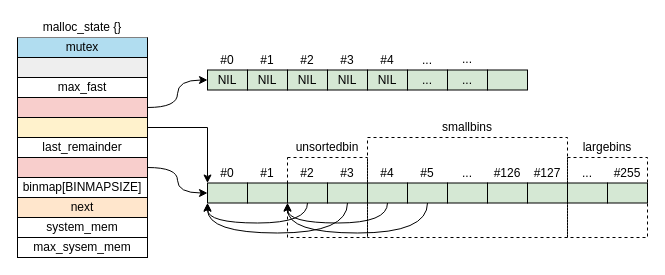
Image size: 665x275. Some labels were removed from this diagram. The centre of each missing label's shape, as x and y in pixels:
"bins[NBINS * 2]" goes at point 82,167.
"fastbins[NFASTBINS]" goes at point 82,107.
"top" goes at point 82,127.
